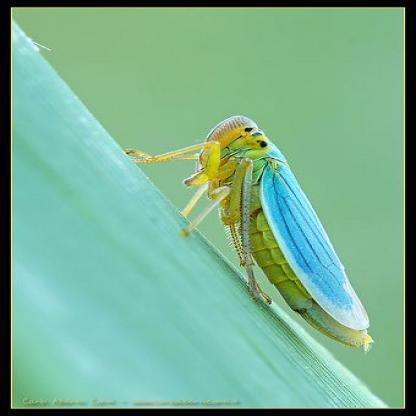Green-Leafhopper: (126, 114, 376, 357)
